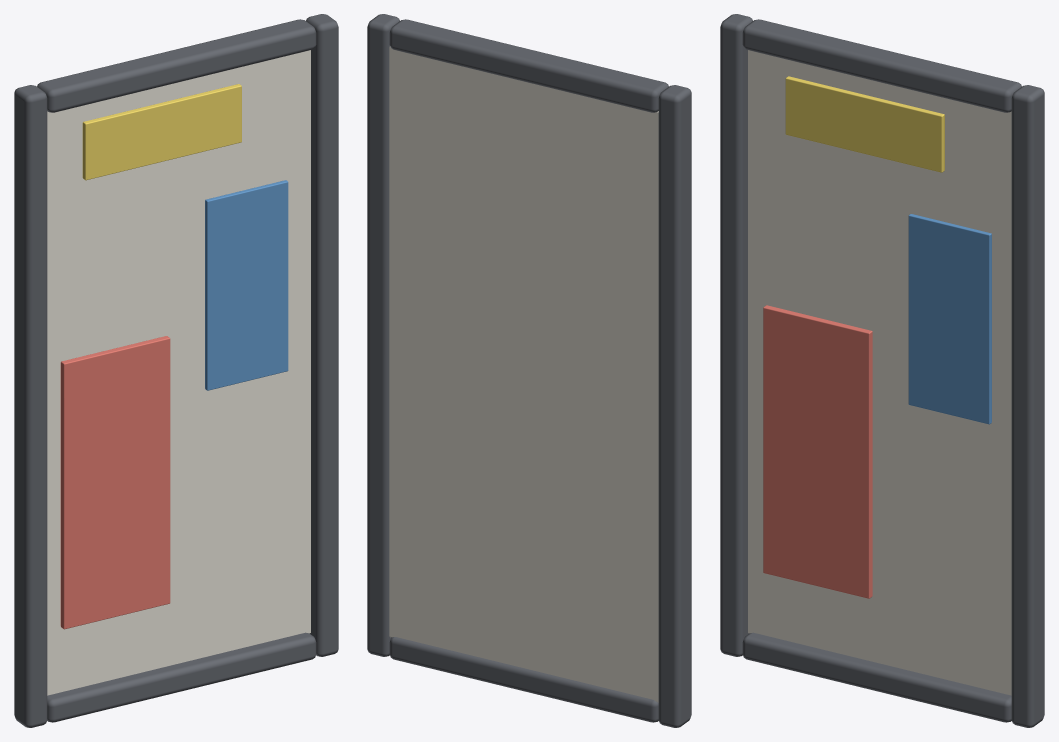
The picture shows the model from 3 angles, left to right: view 1: azimuth 30°, elevation 25°; view 2: azimuth 150°, elevation 25°; view 3: azimuth 330°, elevation 25°; orthographic projection.
Visible parts, largest first — view 1: framed-canvas-tall; view 2: framed-canvas-tall; view 3: framed-canvas-tall.
Boxes of the visible parts, bbox=[...] form: framed-canvas-tall: bbox=[14, 14, 338, 727]; framed-canvas-tall: bbox=[367, 14, 691, 727]; framed-canvas-tall: bbox=[720, 14, 1044, 727].
Bounding box in the file's own units: 0.7 × 1.35 × 0.06.
